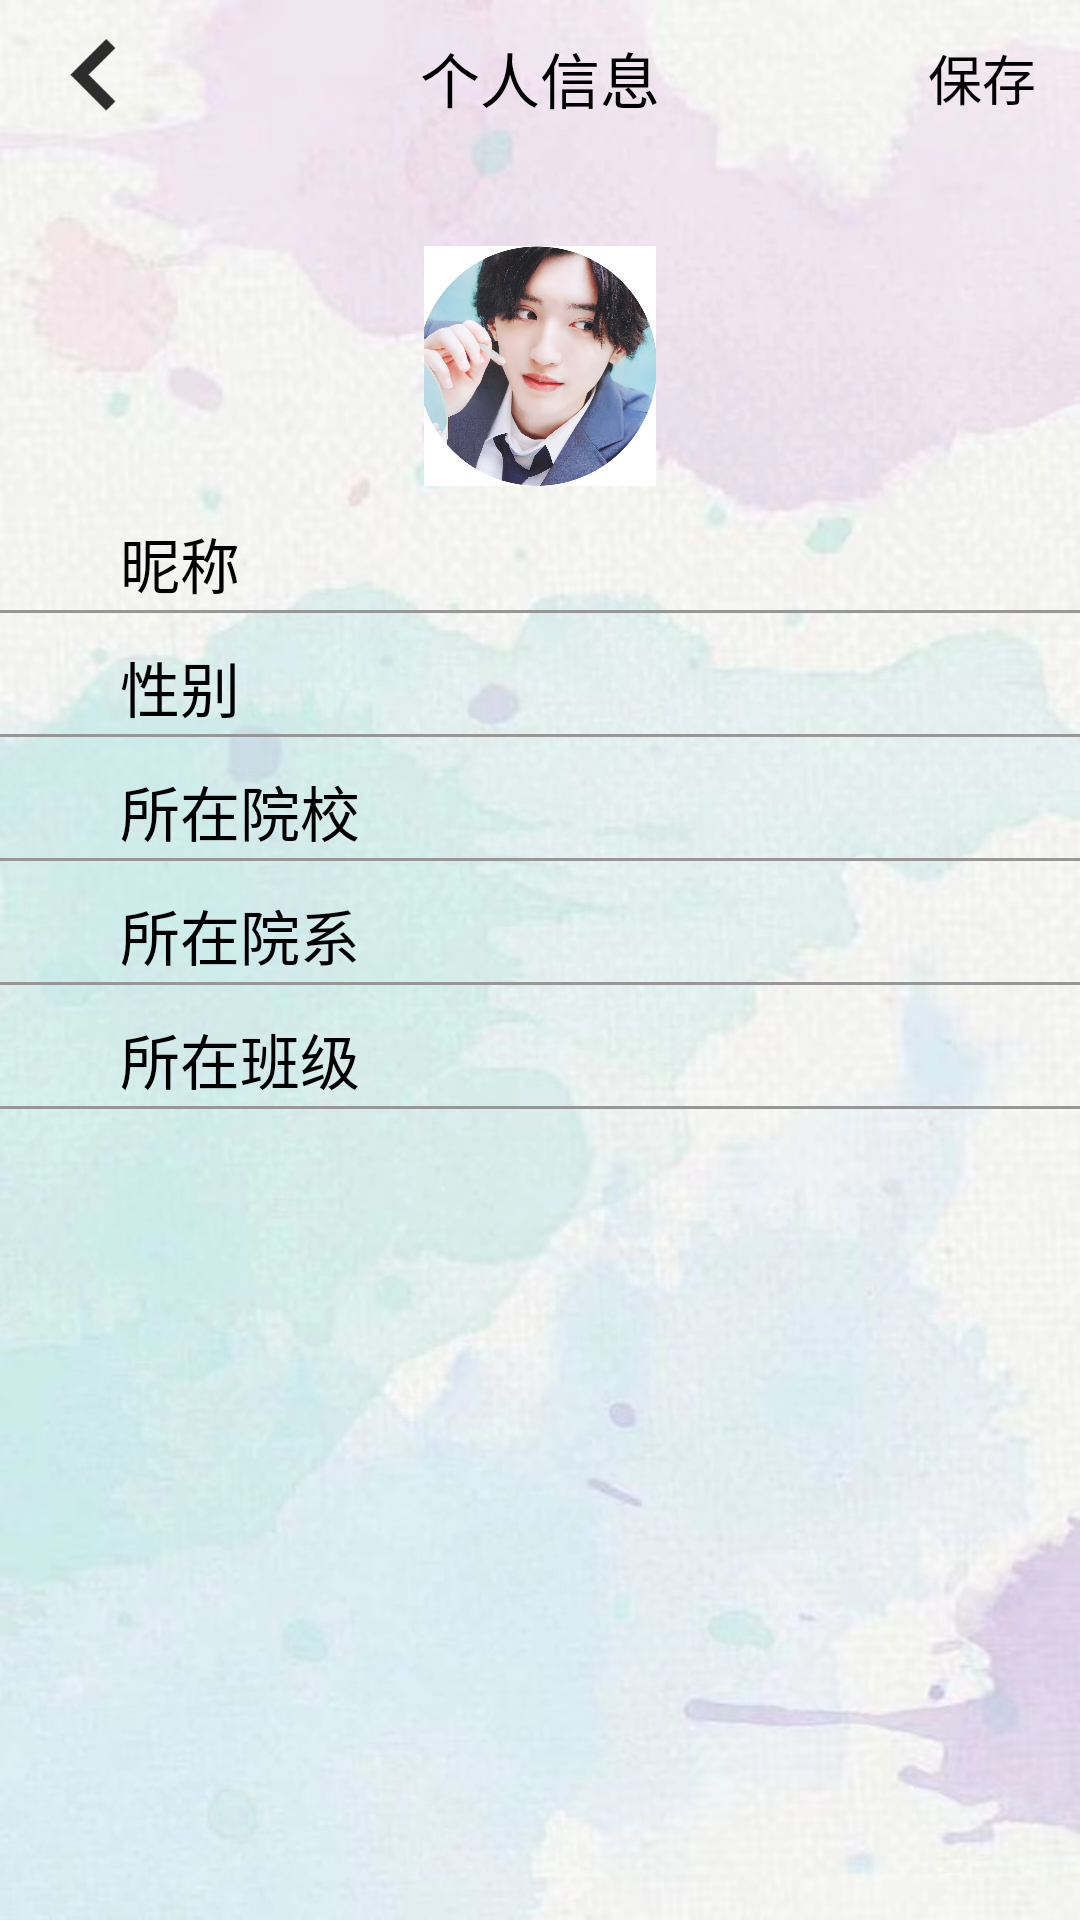

Where to tap for icons on this 1080 x 1920 app screen, as (x,y):
zuojiantou: (93,75)
